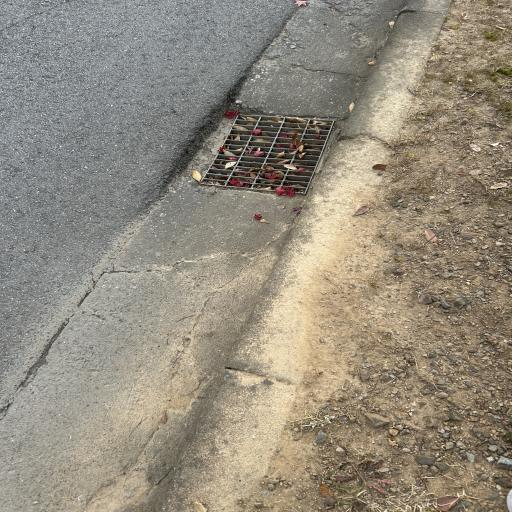debris: (230, 116, 329, 194), (235, 116, 270, 145), (227, 141, 239, 161), (228, 111, 239, 119), (269, 117, 281, 124), (217, 165, 226, 173), (219, 145, 227, 152), (263, 184, 266, 187)
drain: (198, 111, 338, 196)
